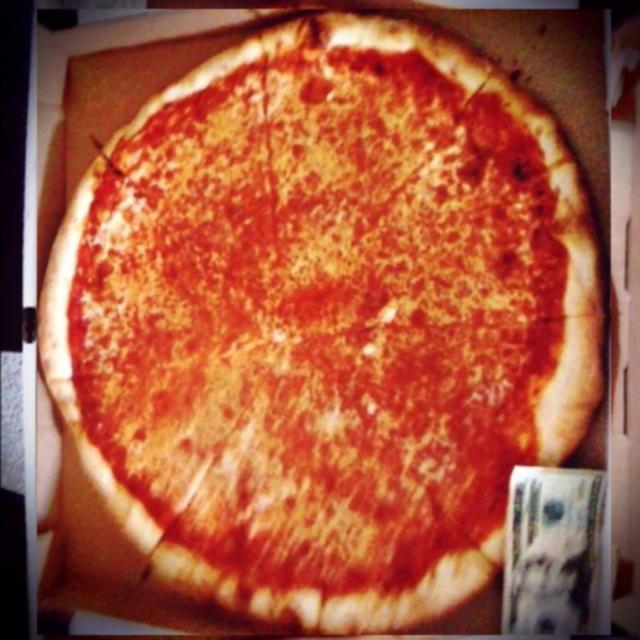pizza: (36, 9, 610, 635)
